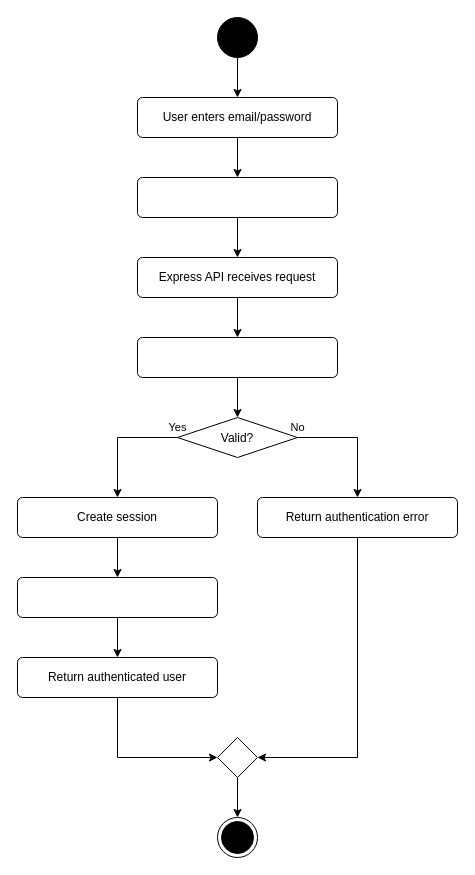
This 475x875 diagram has some shape labels left out. The shapes that lost their labels are listed below. From the top down, each one's centre as x and y in pixels, then its label:
(237,197): Frontend submits credentials
(237,357): Better Auth validates credentials
(117,597): Store session cookie
